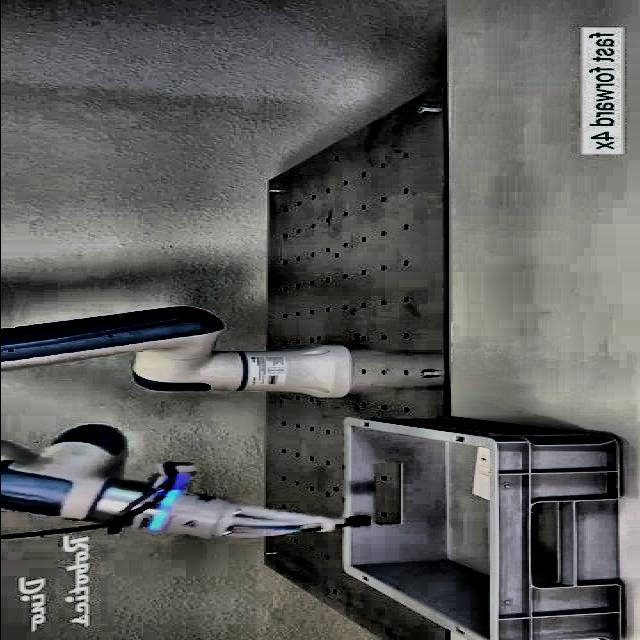robot: (0, 295, 377, 540)
